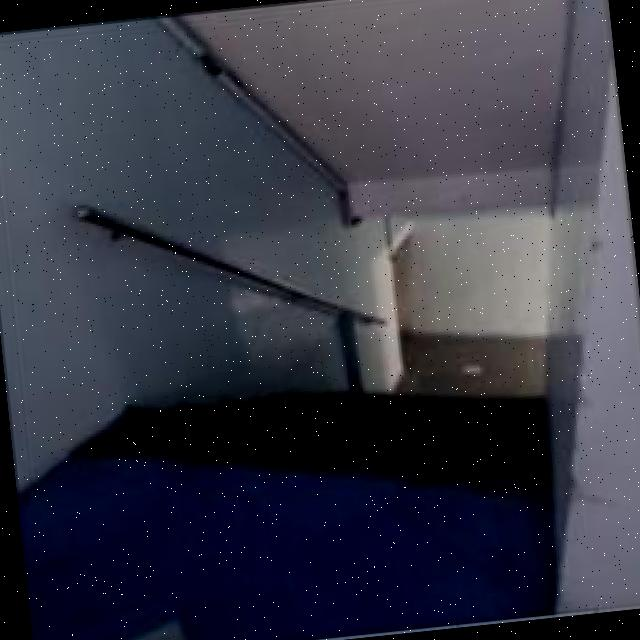stairs: (18, 149, 640, 570)
